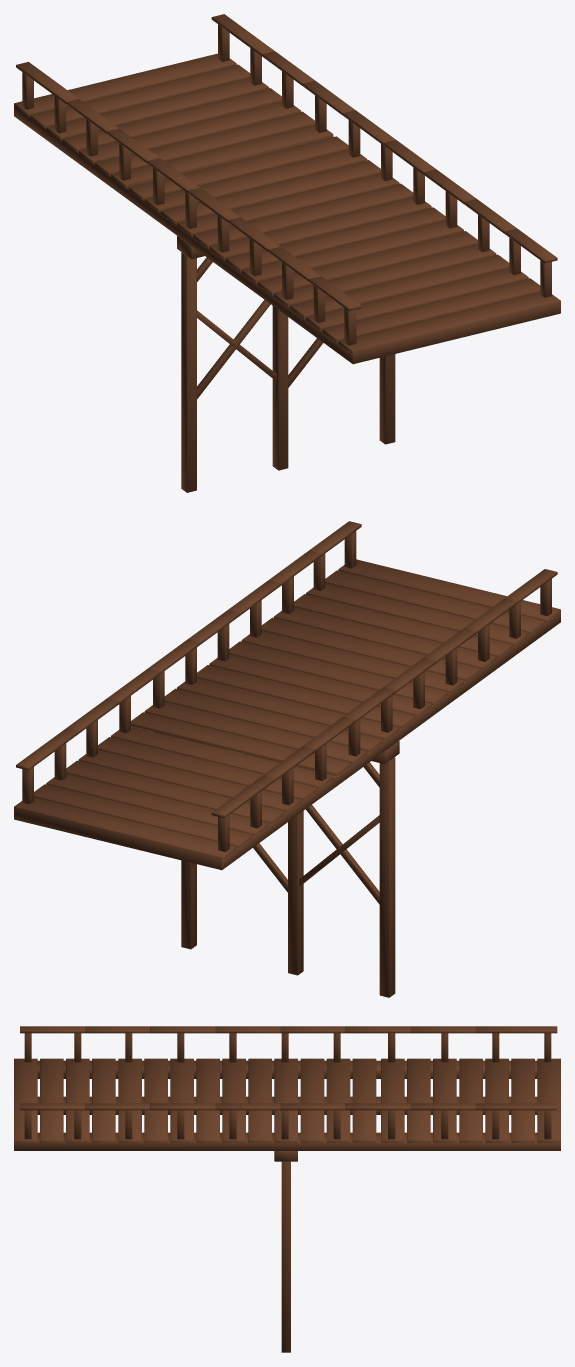
File: Prop_WoodenBridge_CS.glb
3 renders of one model, top to bottom at view 1: azimuth 30°, elevation 25°; view 2: azimuth 150°, elevation 25°; view 3: azimuth 270°, elevation 25°, orthographic. The views are drawn at different scales.
Parts seen in each view (by area): view 1: Prop_WoodenBridge_CS; view 2: Prop_WoodenBridge_CS; view 3: Prop_WoodenBridge_CS.
Part boxes in pixels (box(x1,y1,x2,y2)): Prop_WoodenBridge_CS: box(14, 14, 560, 492); Prop_WoodenBridge_CS: box(14, 521, 560, 997); Prop_WoodenBridge_CS: box(14, 1026, 560, 1352).
Bounding box in the file's own units: 4.6 × 6.38 × 12.94.
